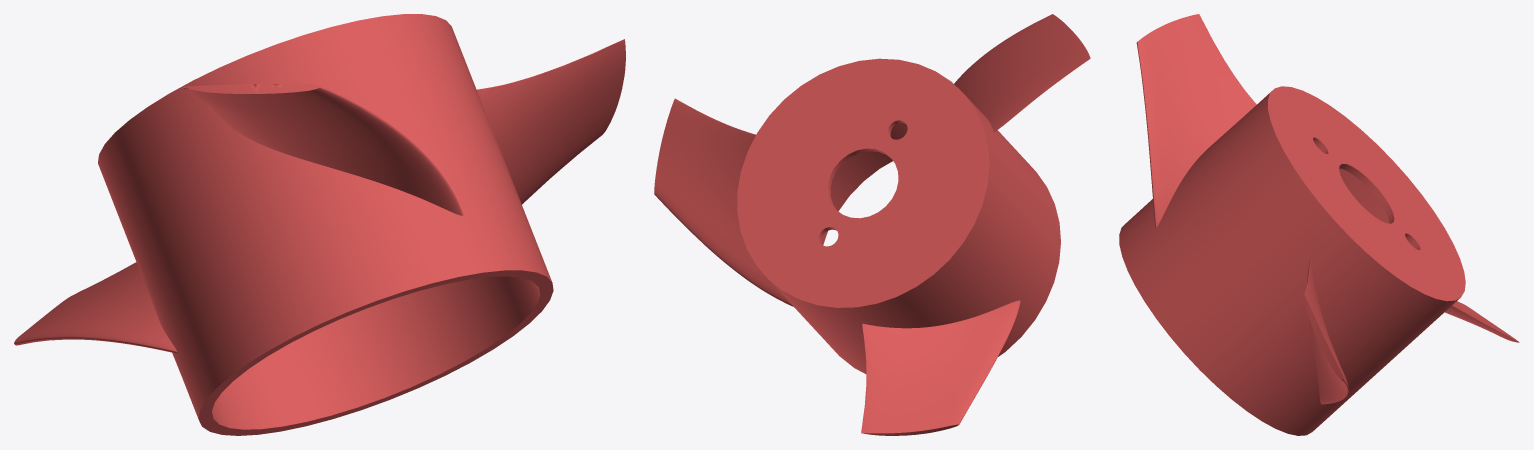
The model's file is HUP.glb.
The picture shows the model from 3 angles, left to right: view 1: azimuth 30°, elevation 25°; view 2: azimuth 150°, elevation 25°; view 3: azimuth 270°, elevation 25°; orthographic projection. The views are drawn at different scales.
Visible parts, largest first — view 1: CAD_material_0; view 2: CAD_material_0; view 3: CAD_material_0.
Part boxes in pixels (x1=…): CAD_material_0: x1=14, y1=14, x2=625, y2=435; CAD_material_0: x1=654, y1=14, x2=1090, y2=435; CAD_material_0: x1=1119, y1=14, x2=1519, y2=435.
Bounding box in the file's own units: 0.0632 × 0.0532 × 0.0572.
